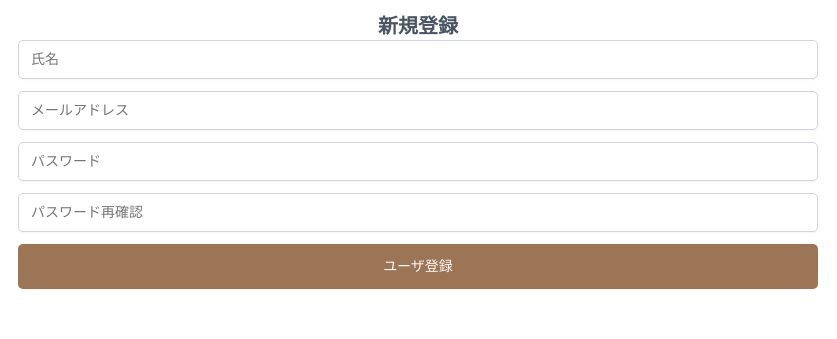
Test: SignupForm › バリデーション › パスワードが8文字未満でエラーが表示される
Type "テストユーザー" into the field with placeholder "氏名".
click(418, 60); type("テストユーザー")  # box [18,40,818,79]
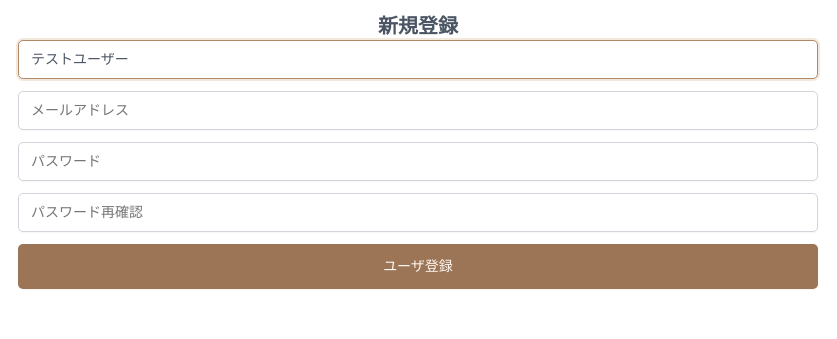
Type "test@example.com" into the field with placeholder "メールアドレス".
click(418, 110); type("test@example.com")  # box [18,91,818,130]
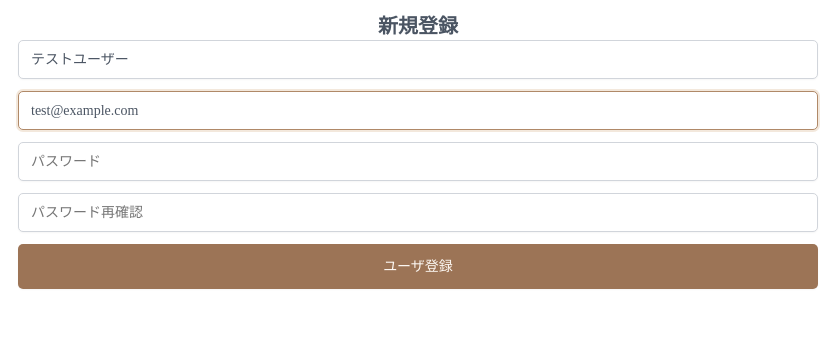
Type "pass1" into the password field with placeholder "パスワード".
click(418, 162); type("pass1")  # box [18,142,818,181]
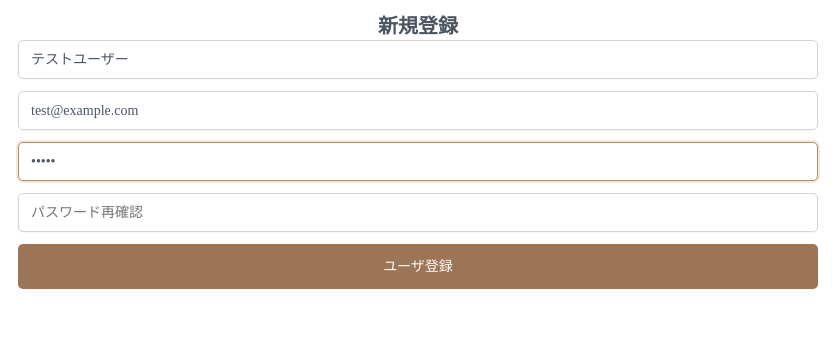
Type "pass1" into the password field with placeholder "パスワード再確認".
click(418, 212); type("pass1")  # box [18,193,818,232]
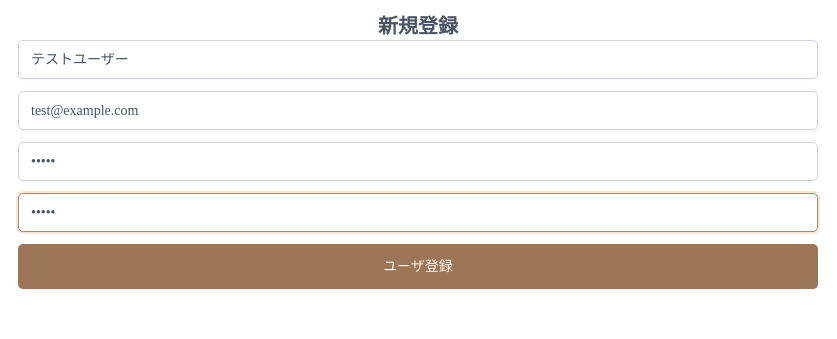
Click the button "ユーザ登録".
click(418, 266)  # box [18,244,818,289]
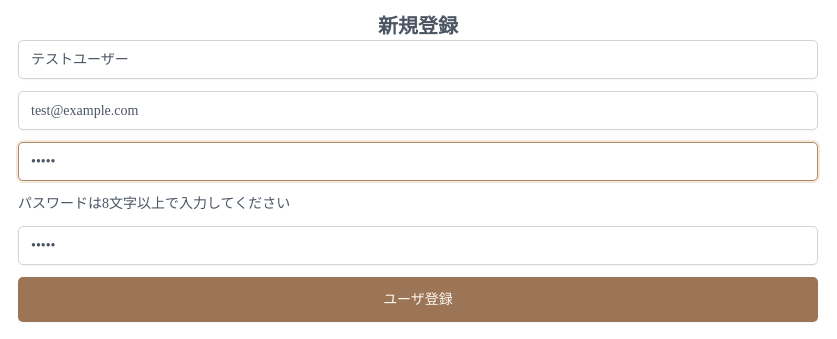
Check: the text "パスワードは8文字以上で入力してください" is shown, box [18,196,290,211]
